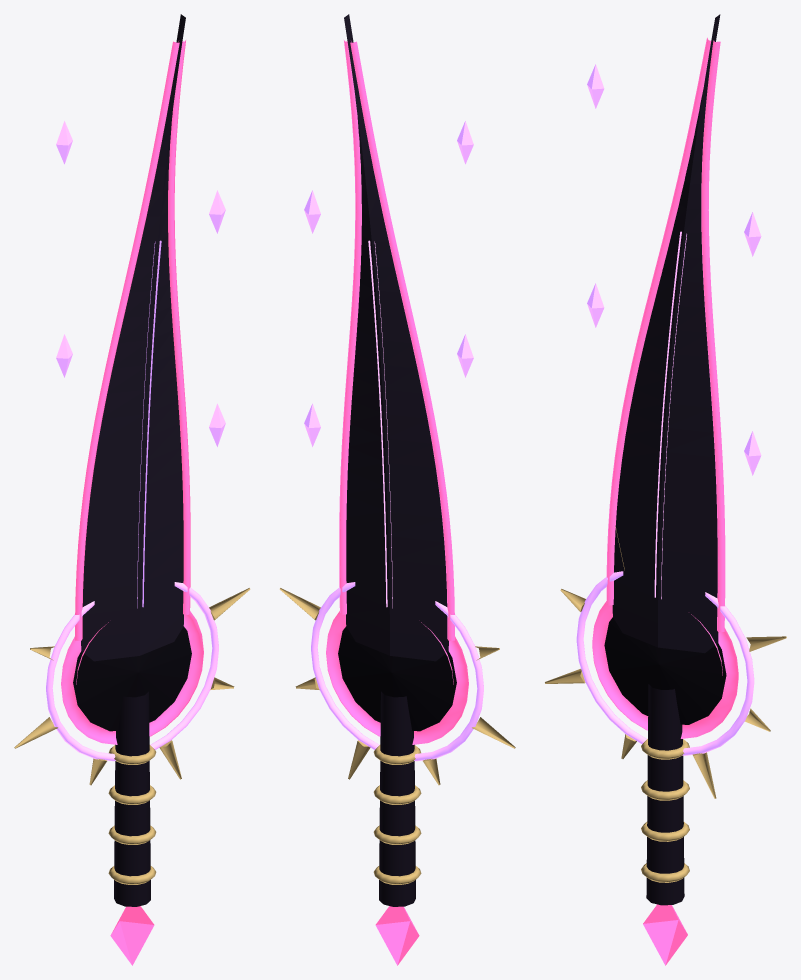
File: assassin_dagger.glb
3 views of the same model, side by side, from view 1: azimuth 30°, elevation 25°; view 2: azimuth 150°, elevation 25°; view 3: azimuth 330°, elevation 25° (orthographic). The views are drawn at different scales.
Visible parts, largest first — view 1: assassin_dagger; view 2: assassin_dagger; view 3: assassin_dagger.
Part boxes in pixels (bbox=[...]): assassin_dagger: bbox=[14, 14, 250, 965]; assassin_dagger: bbox=[279, 14, 515, 965]; assassin_dagger: bbox=[545, 14, 786, 965].
Bounding box in the file's own units: 0.2779 × 1.05 × 0.052.
